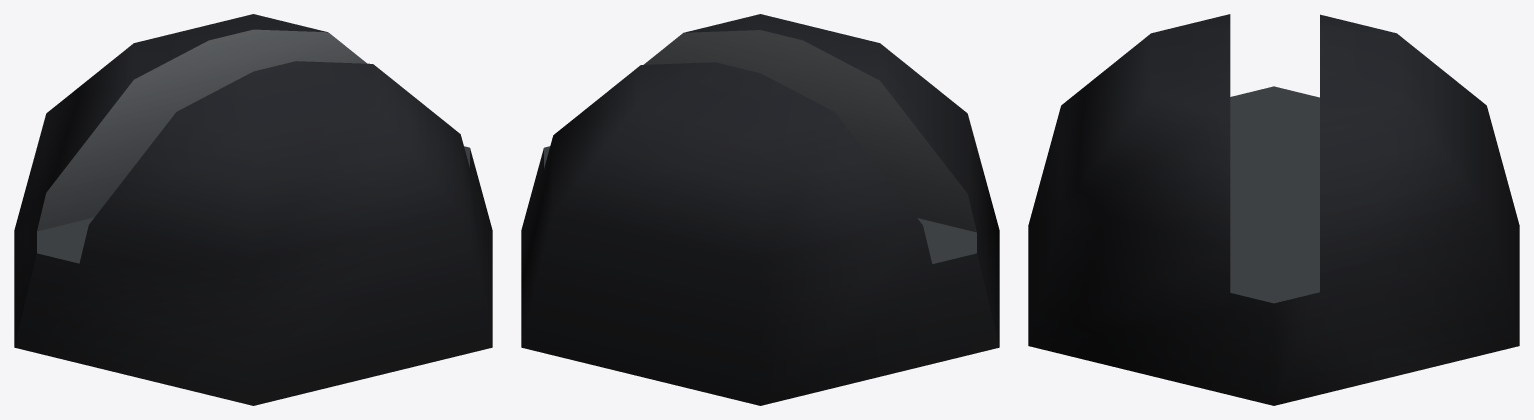
File: vite_v02.fbx
3 renders of one model, left to right at view 1: azimuth 30°, elevation 25°; view 2: azimuth 150°, elevation 25°; view 3: azimuth 270°, elevation 25°, orthographic. The views are drawn at different scales.
Visible parts, largest first — view 1: vite_v02; view 2: vite_v02; view 3: vite_v02.
Boxes of the visible parts, <box> form: vite_v02: <box>14,14,492,405</box>; vite_v02: <box>521,14,999,405</box>; vite_v02: <box>1028,14,1519,405</box>.
Size of the model in its own units: 1.1 by 0.5237 by 0.9525.
1 material, 1 textured.
